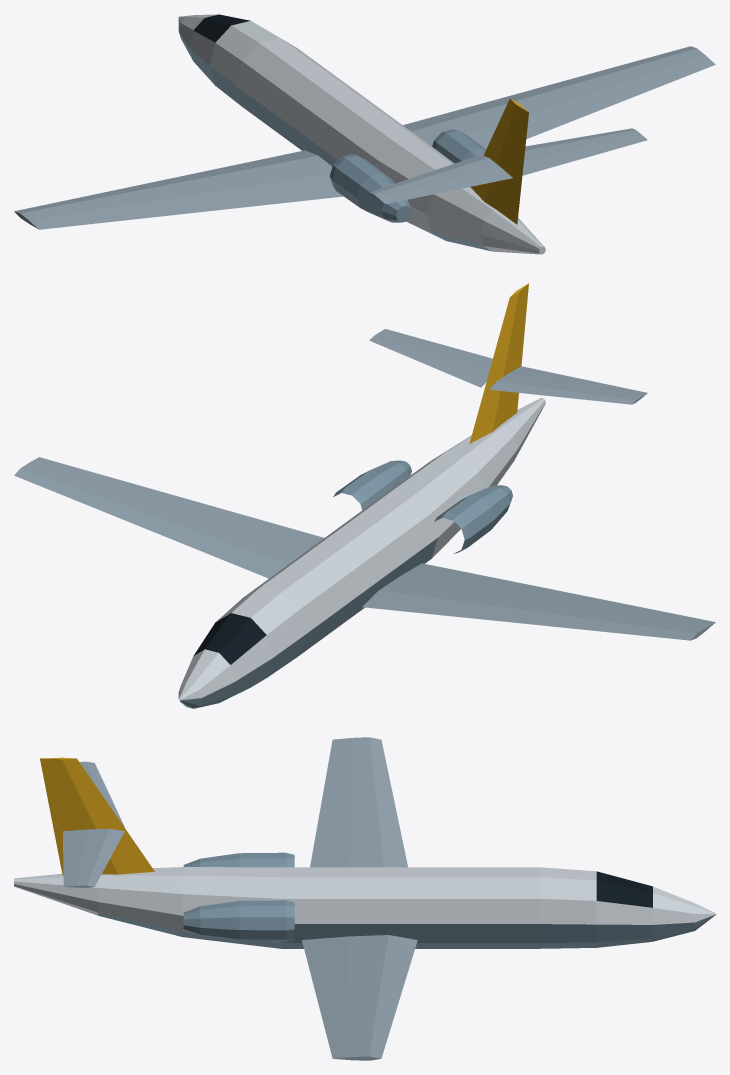
3 renders of one model, top to bottom at view 1: azimuth 30°, elevation 25°; view 2: azimuth 150°, elevation 25°; view 3: azimuth 270°, elevation 25°, orthographic. The views are drawn at different scales.
Parts seen in each view (by area): view 1: lod0; view 2: lod0; view 3: lod0.
Boxes of the visible parts, bbox=[...] form: lod0: bbox=[14, 14, 715, 254]; lod0: bbox=[14, 283, 715, 708]; lod0: bbox=[14, 737, 715, 1060].
Size of what is drawn, in the model's own units: 1.08 by 0.2914 by 1.
